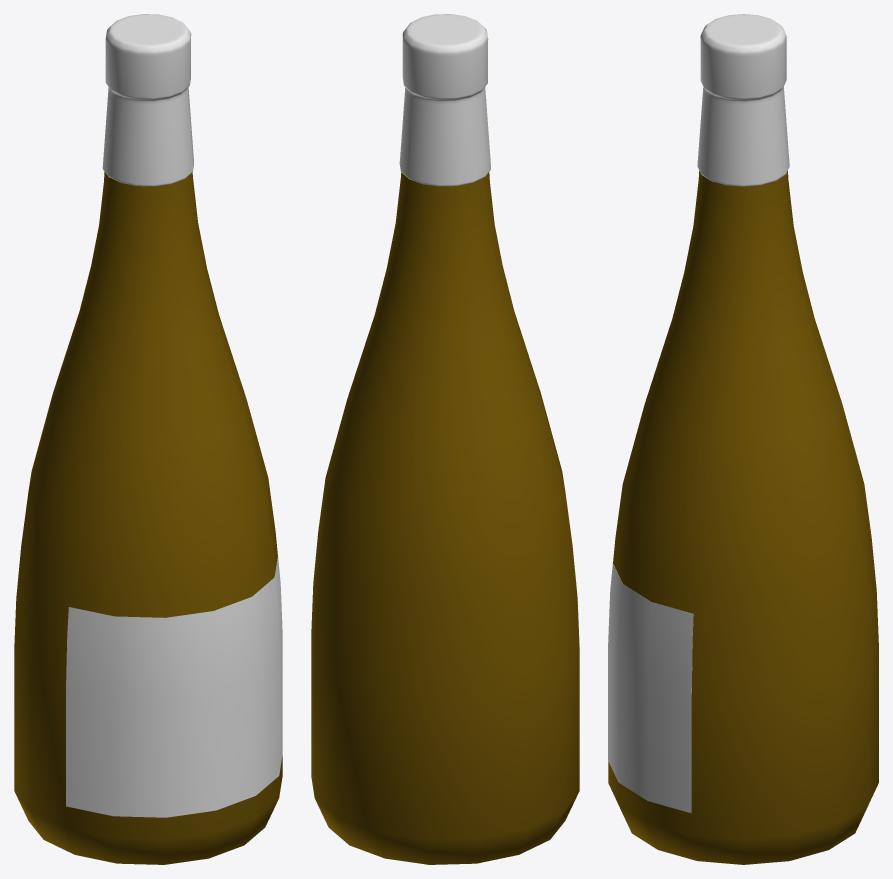
The model's file is MESH_Bottle_M.fbx.
3 views of the same model, side by side, from view 1: azimuth 30°, elevation 25°; view 2: azimuth 150°, elevation 25°; view 3: azimuth 270°, elevation 25° (orthographic).
Parts seen in each view (by area): view 1: Bottle_M; view 2: Bottle_M; view 3: Bottle_M.
Part boxes in pixels (<box>): Bottle_M: <box>14,14,282,864</box>; Bottle_M: <box>311,14,579,864</box>; Bottle_M: <box>608,14,878,864</box>.
Size of the model in its own units: 21.29 by 69.16 by 21.3.
